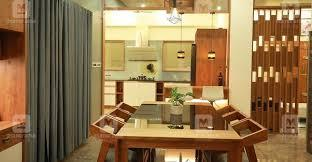chair: (195, 108, 252, 162), (202, 117, 269, 162), (89, 115, 152, 162), (115, 101, 151, 149), (216, 100, 241, 119), (107, 108, 135, 124), (201, 85, 226, 100), (174, 84, 194, 99)
door: (253, 7, 298, 136)
light: (176, 10, 186, 58), (208, 9, 217, 61), (168, 0, 178, 25), (138, 3, 147, 9), (217, 5, 223, 12)
table: (113, 99, 246, 162), (0, 119, 25, 162), (163, 85, 228, 100)
